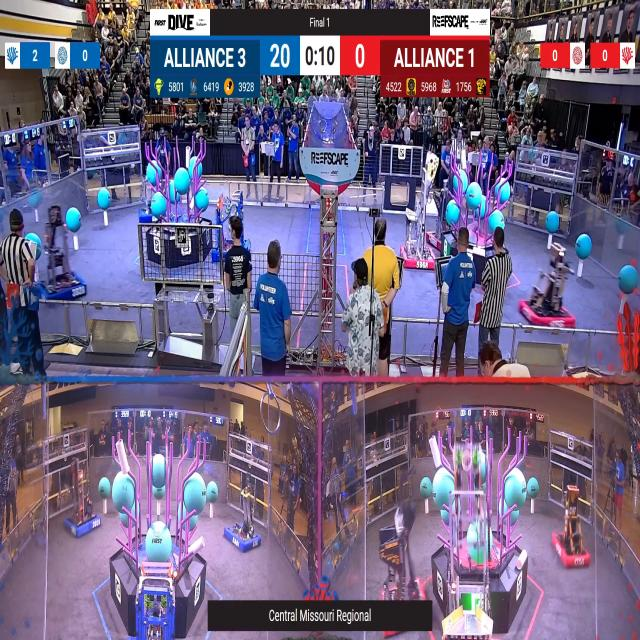scoreboard: (151, 36, 490, 98)
